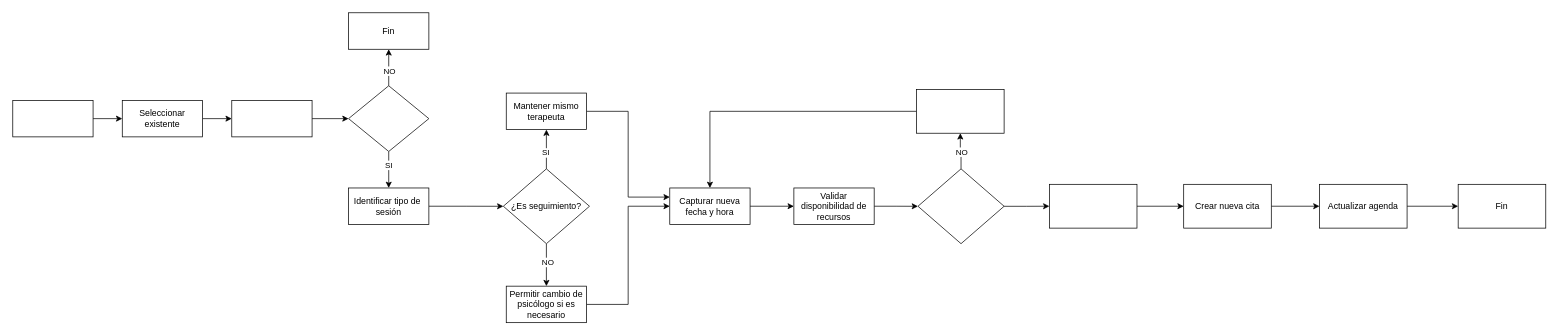
The diagram is 1559 pixels wide and 336 high, and some of its shapes have lost their labels. The shapes that lost their labels are listed below. From the top down, each one's centre as x and y in pixels, then its label:
pixel 52 118: Inicio
pixel 271 118: Mostrar detalles de la cita
pixel 388 118: ¿Desea reprogramar?
pixel 960 111: Mostrar mensaje: "Conflicto de agenda"
pixel 960 206: ¿Hay disponibilidad?
pixel 1093 206: Cambiar de estatus la cita original a "cancelada"
